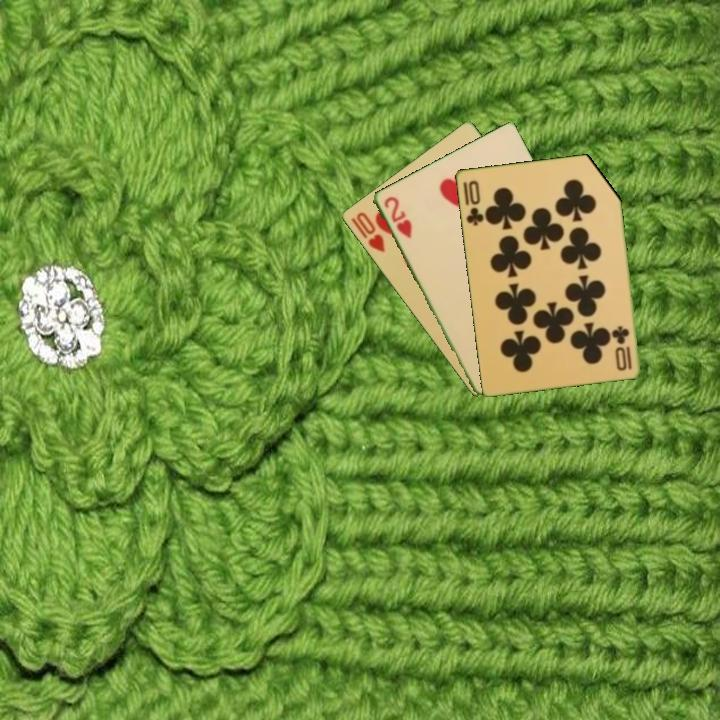10c: (610, 322, 634, 374), (462, 177, 486, 228)
10h: (347, 208, 387, 255)
2h: (380, 192, 415, 242)
